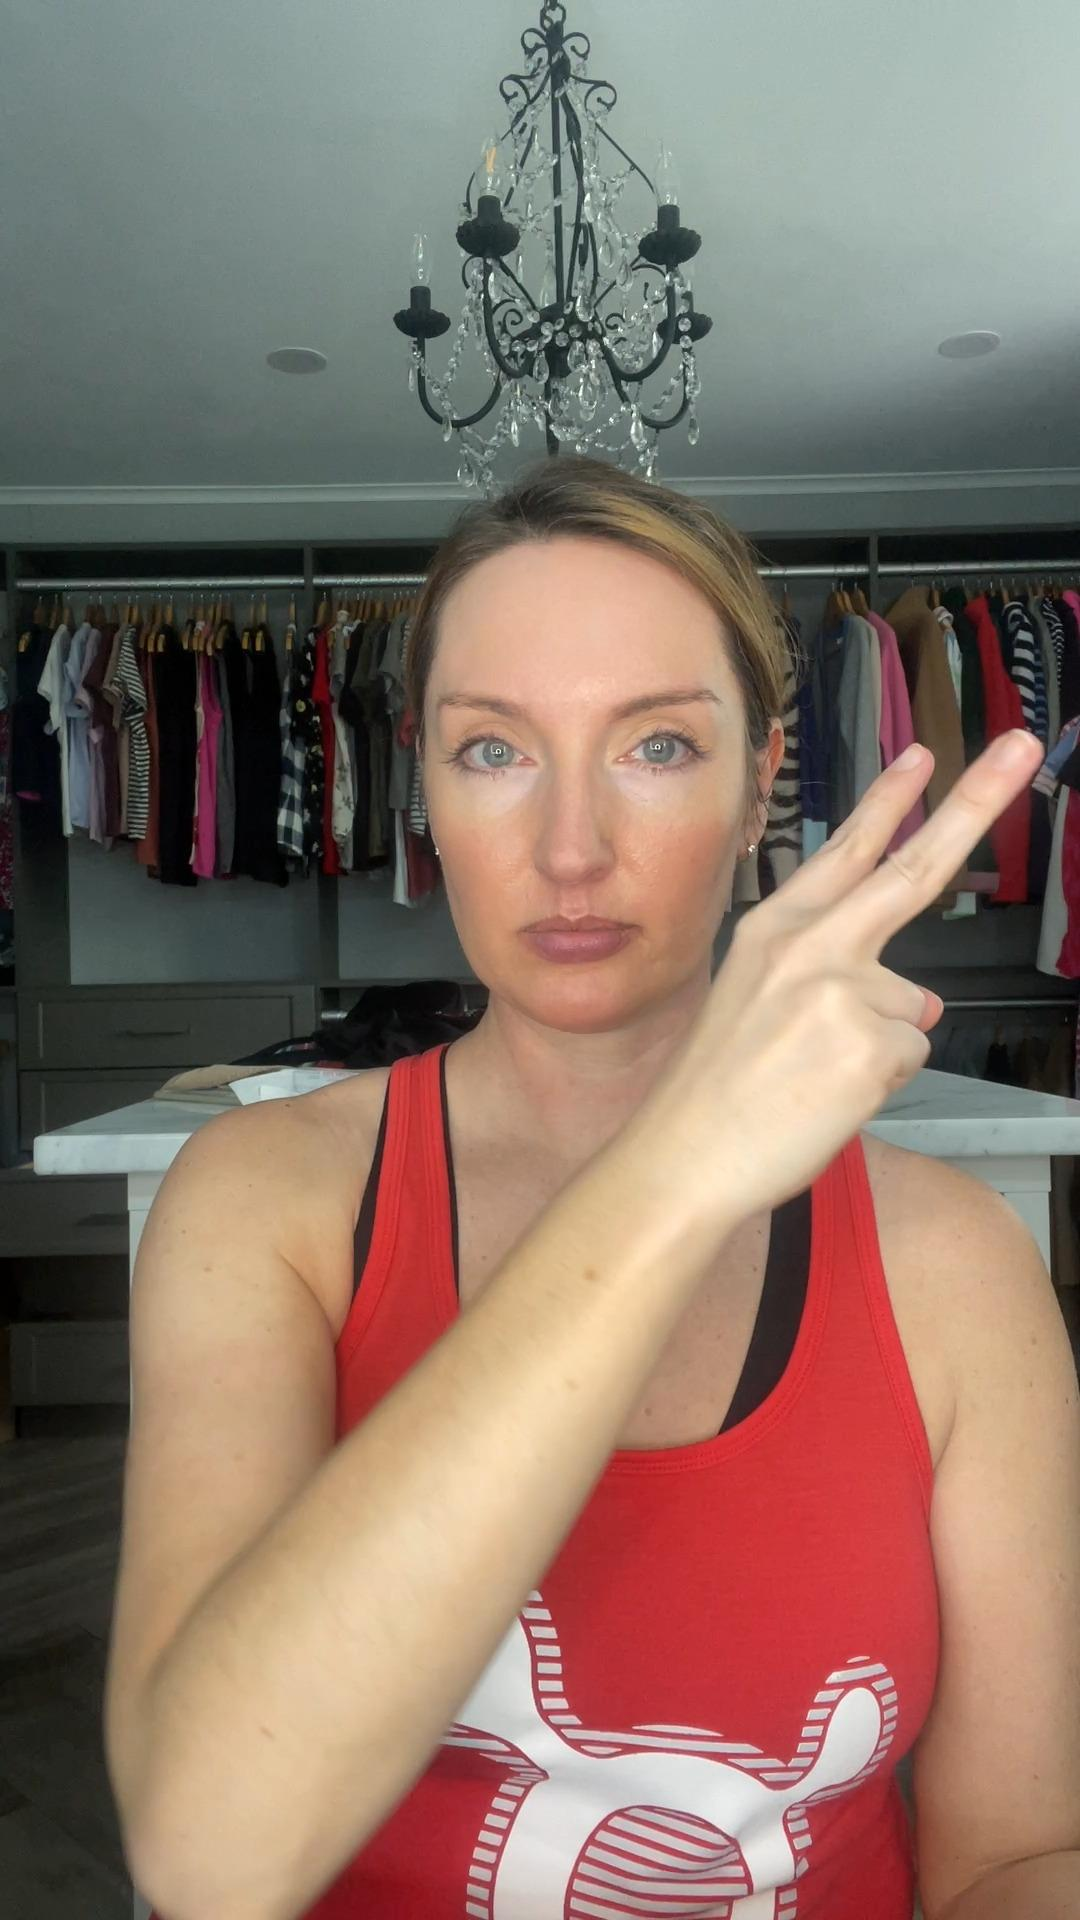Scissors: (663, 724, 1042, 1193)
